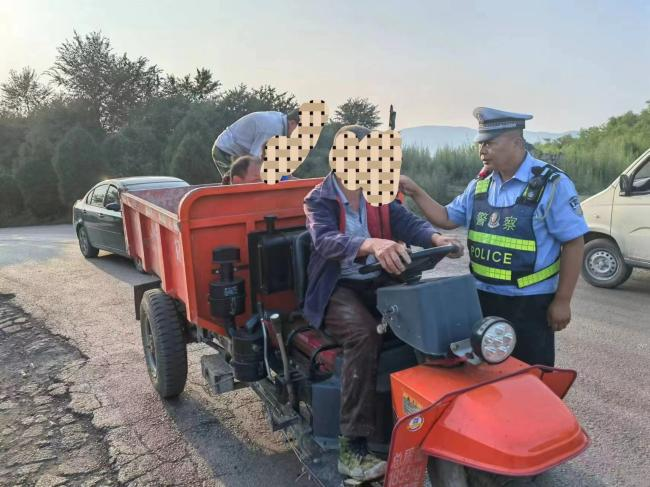driver: (311, 101, 440, 476)
overloading: (101, 60, 462, 459)
passenger: (190, 85, 319, 210)
